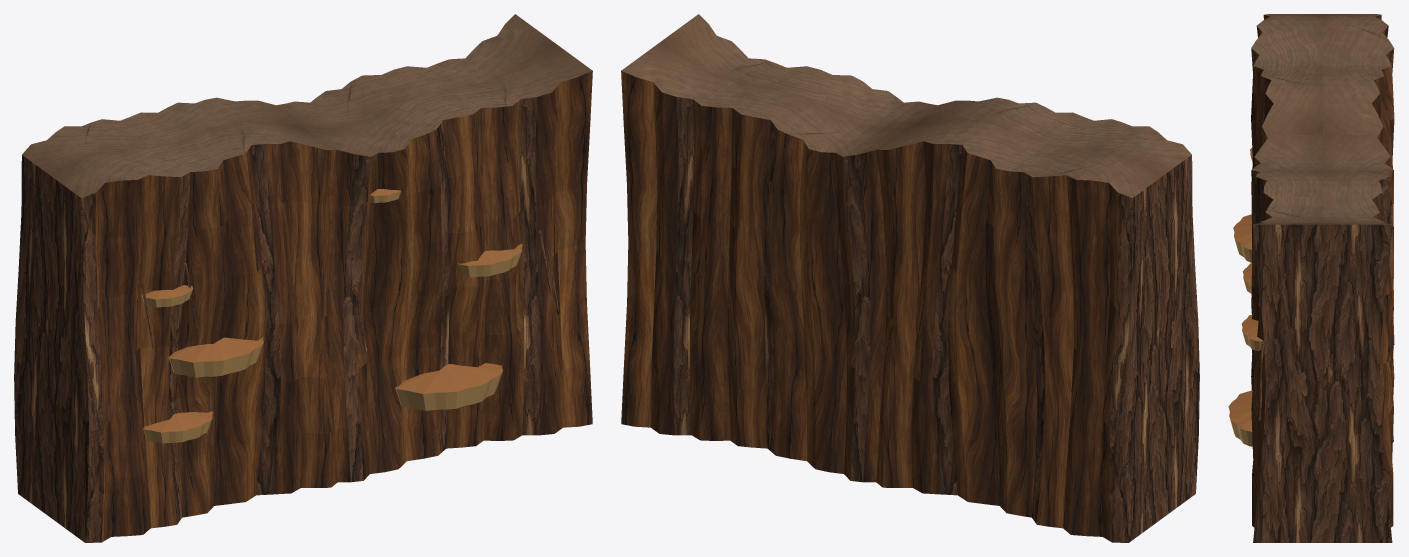
3 renders of one model, left to right at view 1: azimuth 30°, elevation 25°; view 2: azimuth 150°, elevation 25°; view 3: azimuth 270°, elevation 25°, orthographic. The views are drawn at different scales.
Parts seen in each view (by area): view 1: heartwood-wall · evaluated preview mesh; view 2: heartwood-wall · evaluated preview mesh; view 3: heartwood-wall · evaluated preview mesh.
Boxes of the visible parts, left/top/right/bottom form: heartwood-wall · evaluated preview mesh: left=14, top=14, right=592, bottom=542; heartwood-wall · evaluated preview mesh: left=621, top=14, right=1199, bottom=542; heartwood-wall · evaluated preview mesh: left=1228, top=14, right=1394, bottom=542.
Bounding box in the file's own units: 16 × 10.75 × 5.08.
6 materials, 3 textured.
